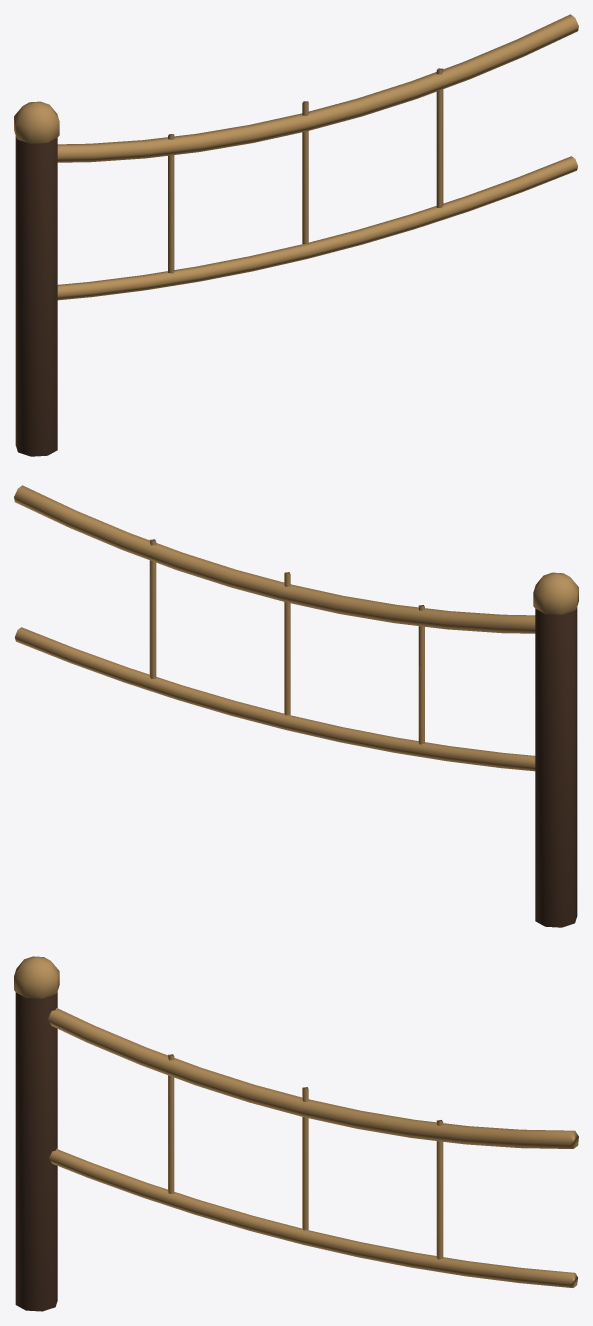
The model's file is jungle_rope_rail.glb.
3 views of the same model, one above another, from view 1: azimuth 30°, elevation 25°; view 2: azimuth 150°, elevation 25°; view 3: azimuth 330°, elevation 25° (orthographic).
Visible parts, largest first — view 1: RopeRail; view 2: RopeRail; view 3: RopeRail.
Part boxes in pixels (x1,y1,x2,y2): RopeRail: (14, 14, 578, 456); RopeRail: (14, 485, 578, 927); RopeRail: (14, 956, 578, 1311).
Size of the model in its own units: 2.08 by 1.23 by 0.1522.
